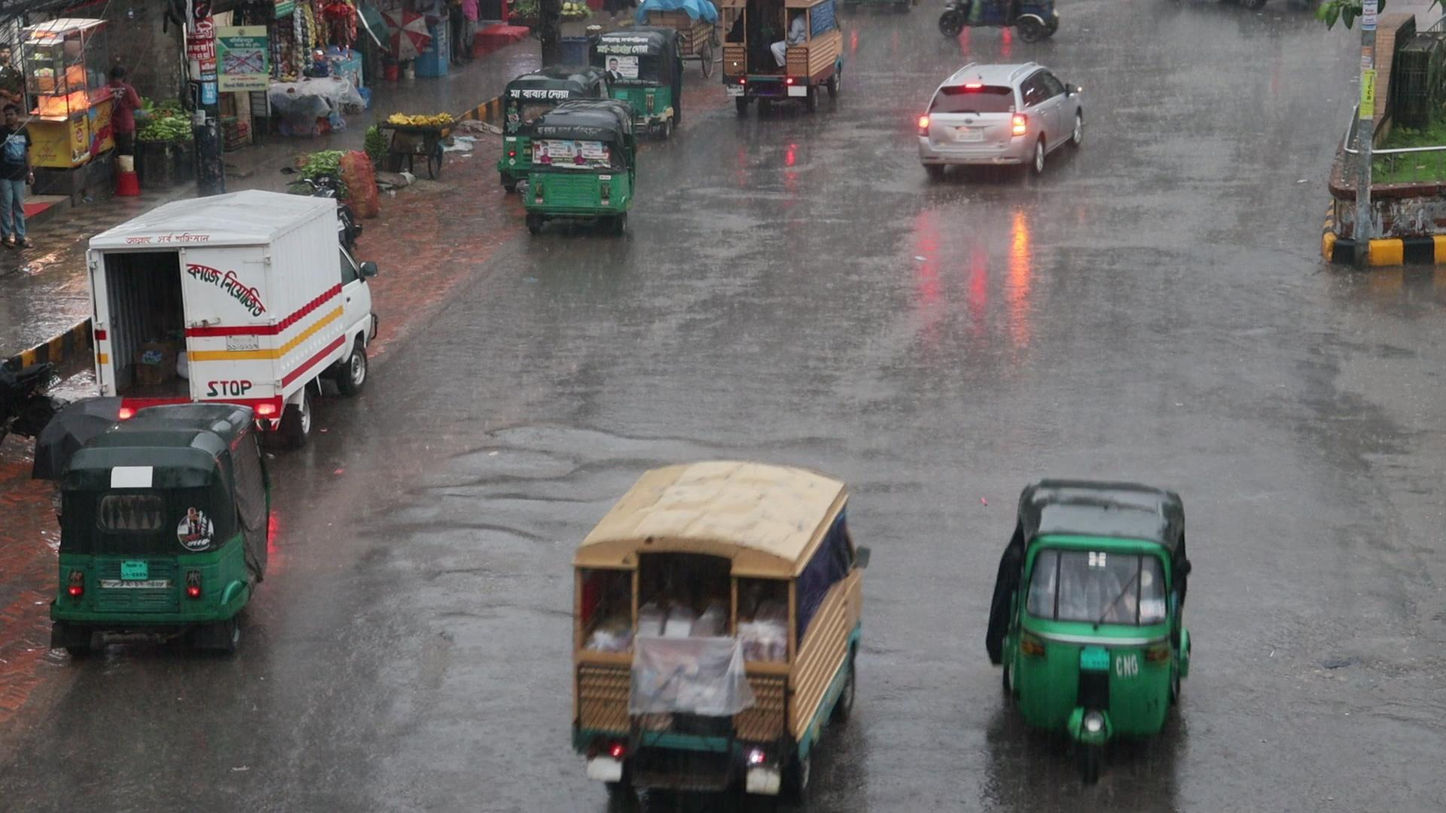Car: (914, 59, 1087, 181)
Truck: (561, 456, 869, 802)
